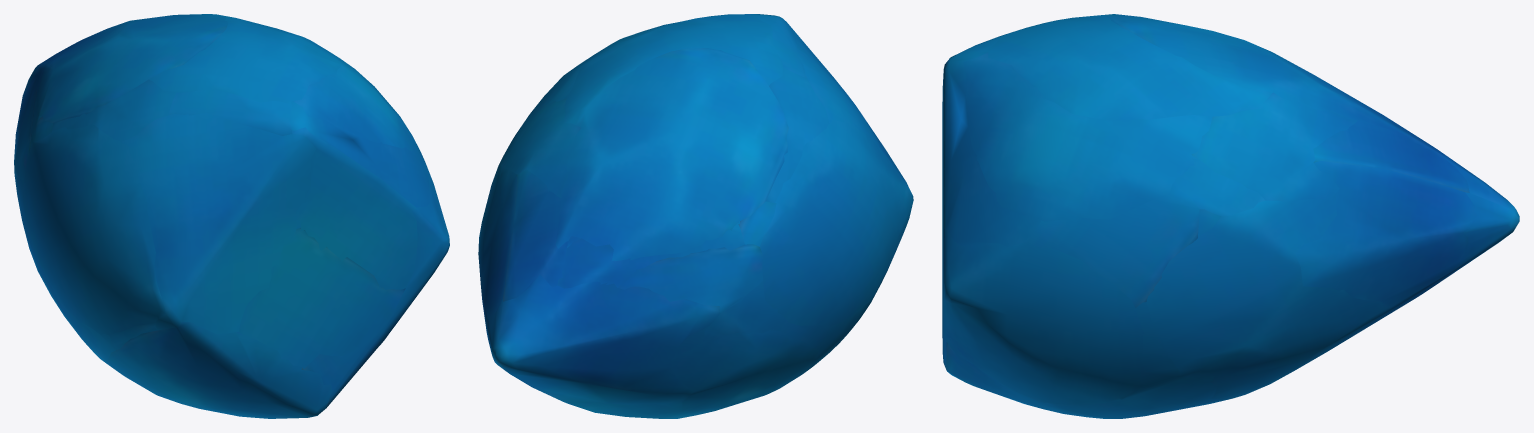
The picture shows the model from 3 angles, left to right: view 1: azimuth 30°, elevation 25°; view 2: azimuth 150°, elevation 25°; view 3: azimuth 270°, elevation 25°; orthographic projection. The views are drawn at different scales.
Parts seen in each view (by area): view 1: material; view 2: material; view 3: material.
Part boxes in pixels (bbox=[...]): material: bbox=[14, 14, 449, 418]; material: bbox=[478, 14, 913, 418]; material: bbox=[942, 14, 1519, 418].
Size of the model in its own units: 0.6986 by 0.702 by 1.
1 material, 1 textured.
